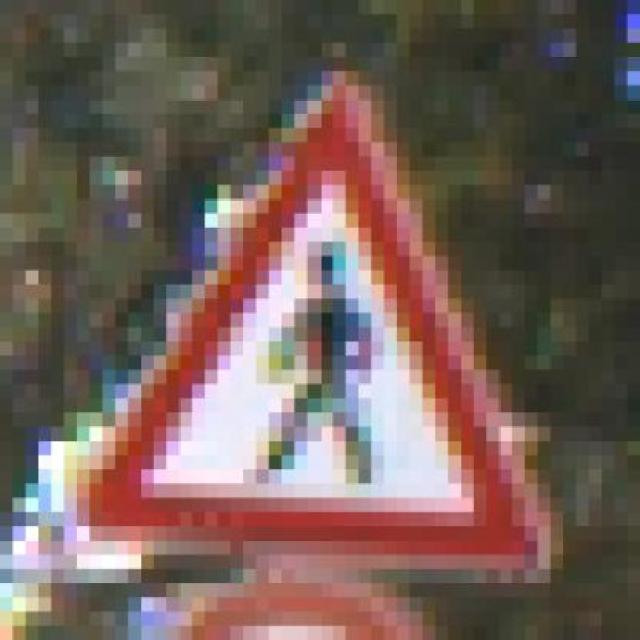Pedestrian Crossing: (64, 29, 576, 598)
